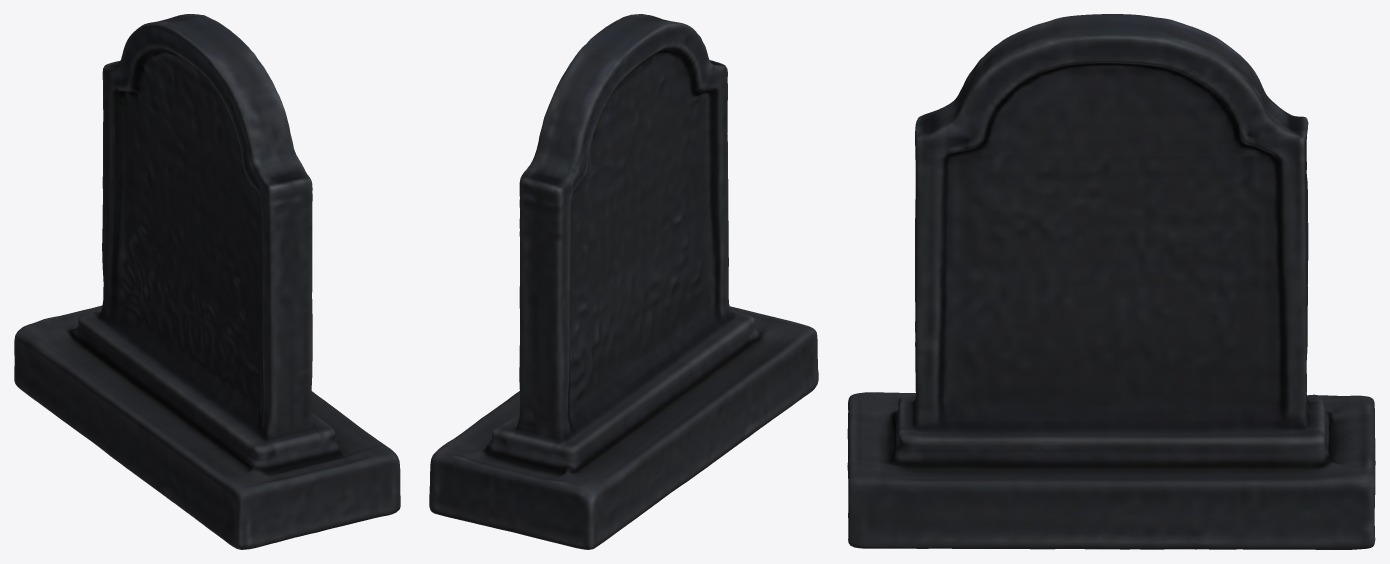
Rendered from tombstone.glb.
3 renders of one model, left to right at view 1: azimuth 30°, elevation 25°; view 2: azimuth 150°, elevation 25°; view 3: azimuth 270°, elevation 25°, orthographic. The views are drawn at different scales.
Parts seen in each view (by area): view 1: high_poly; view 2: high_poly; view 3: high_poly.
Boxes of the visible parts, bbox=[...] form: high_poly: bbox=[14, 14, 400, 549]; high_poly: bbox=[429, 14, 818, 549]; high_poly: bbox=[847, 14, 1375, 549].
Bounding box in the file's own units: 0.4156 × 1 × 0.9957.
1 material, 1 textured.
